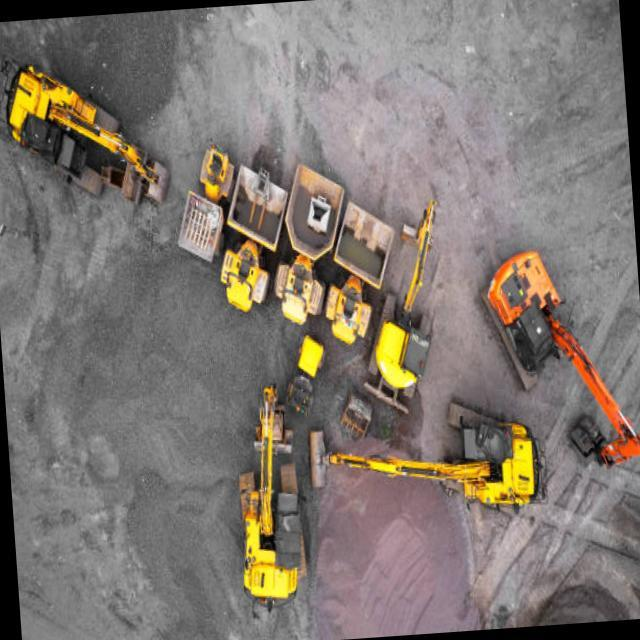excavator: (307, 403, 542, 506), (4, 65, 170, 207), (237, 385, 305, 605), (367, 199, 435, 398)
